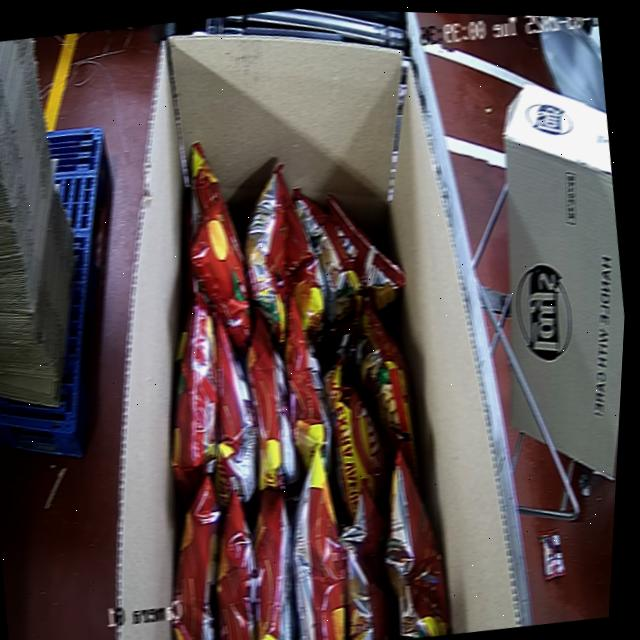MASALA: (104, 112, 478, 640)
